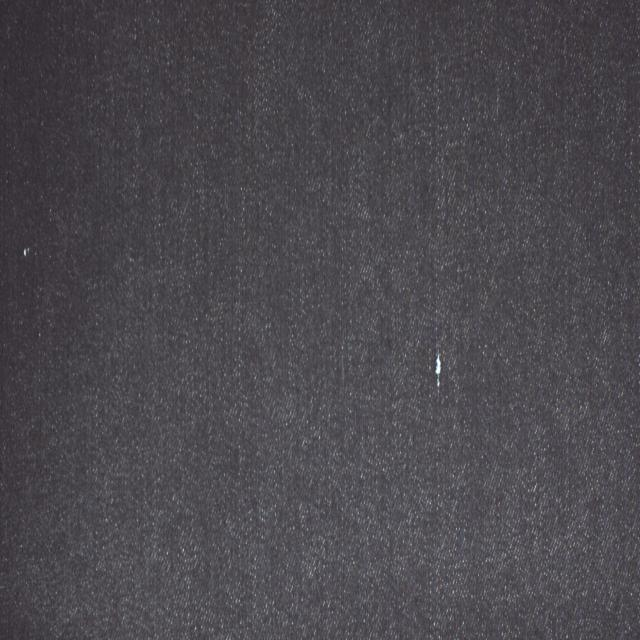Knot: (435, 344, 444, 394)
